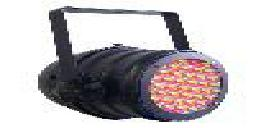LED: (141, 51, 235, 126)
